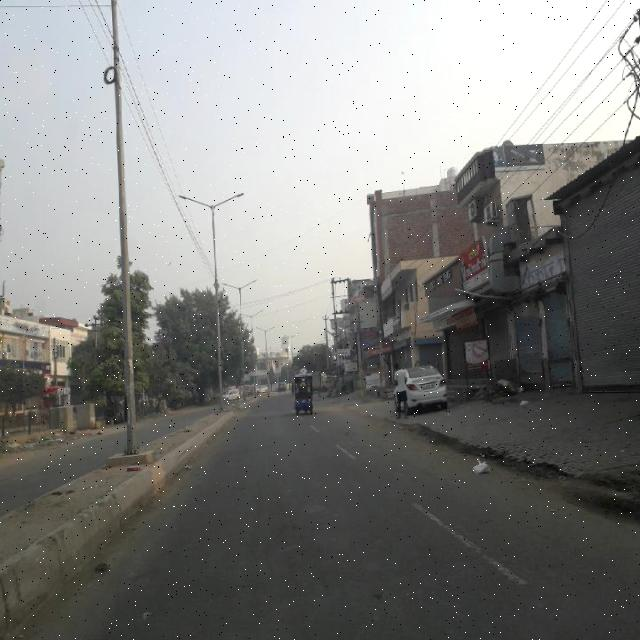D44: (410, 500, 530, 584), (336, 440, 364, 465)
